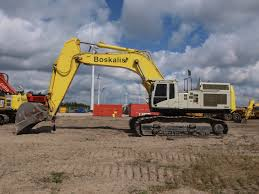excavator: (11, 44, 238, 137)
